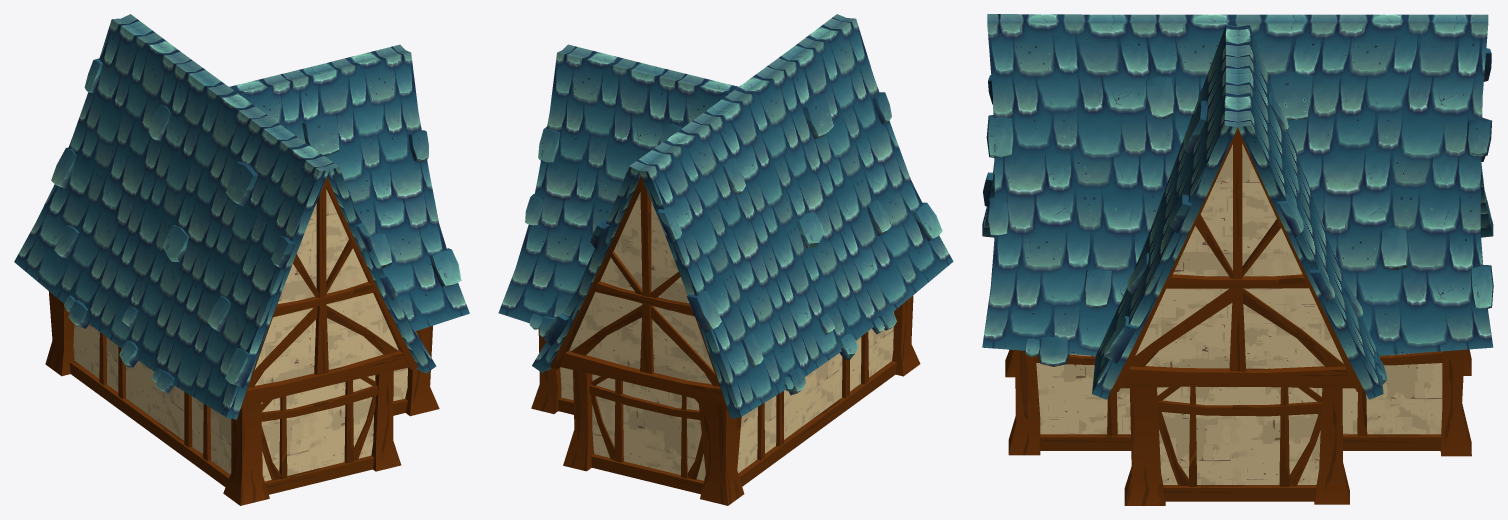
The model's file is maison-3.glb.
The picture shows the model from 3 angles, left to right: view 1: azimuth 30°, elevation 25°; view 2: azimuth 150°, elevation 25°; view 3: azimuth 270°, elevation 25°; orthographic projection. The views are drawn at different scales.
Parts seen in each view (by area): view 1: SM_BLD_body_v05_02; view 2: SM_BLD_body_v05_02; view 3: SM_BLD_body_v05_02.
Boxes of the visible parts, left/top/right/bottom form: SM_BLD_body_v05_02: left=14, top=14, right=469, bottom=505; SM_BLD_body_v05_02: left=498, top=14, right=953, bottom=505; SM_BLD_body_v05_02: left=982, top=14, right=1493, bottom=505.
Size of the model in its own units: 10.24 by 10.78 by 12.88.
Materials: 3 (3 with a texture image).
